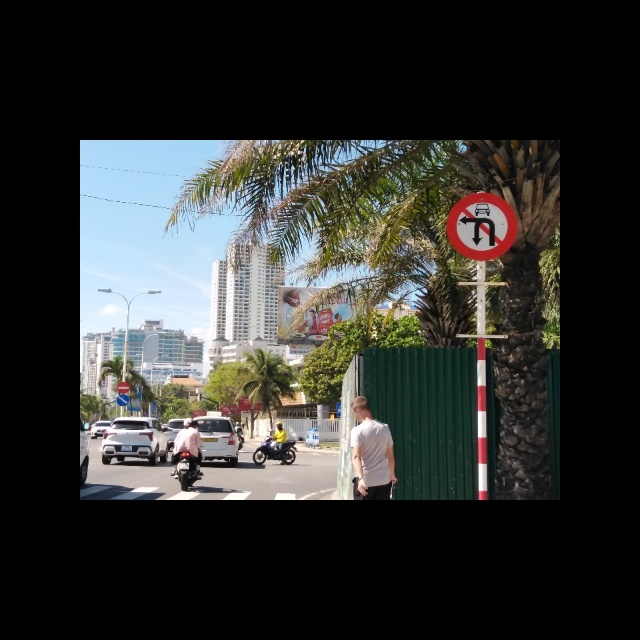Cấm xe ô tô quay đầu và rẽ trái: (445, 193, 520, 261)
